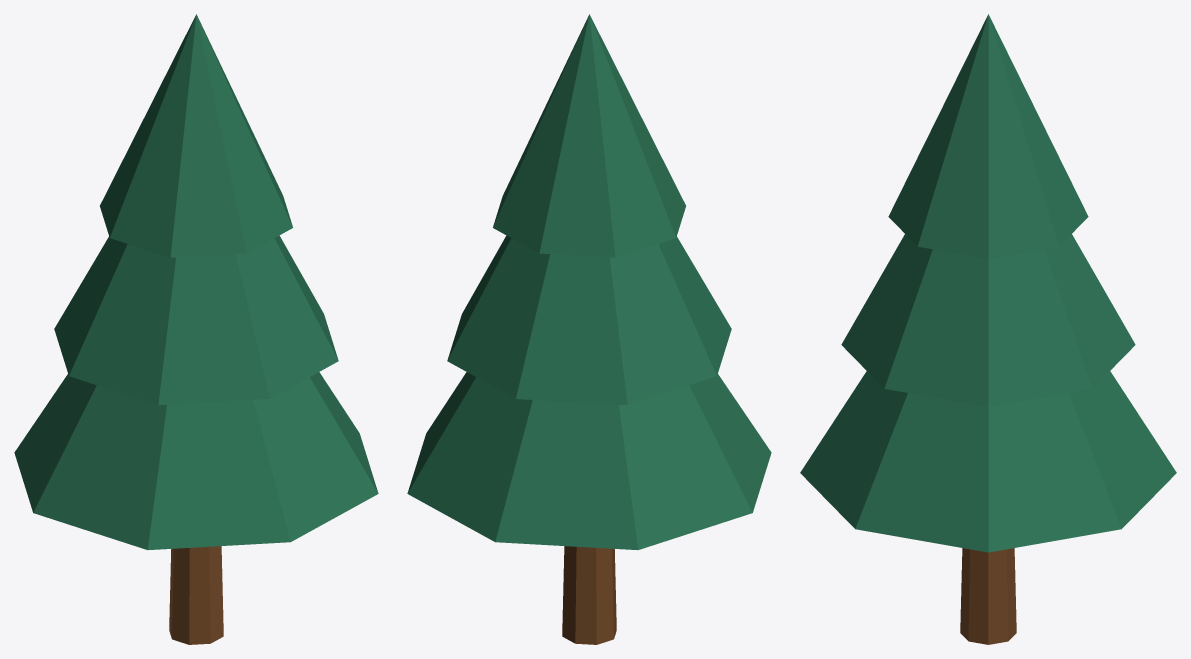
Rendered from tree_pine.glb.
3 renders of one model, left to right at view 1: azimuth 30°, elevation 25°; view 2: azimuth 150°, elevation 25°; view 3: azimuth 270°, elevation 25°, orthographic.
Parts seen in each view (by area): view 1: tree_pine__static; view 2: tree_pine__static; view 3: tree_pine__static.
Boxes of the visible parts, bbox=[...] form: tree_pine__static: bbox=[14, 14, 378, 644]; tree_pine__static: bbox=[407, 14, 771, 644]; tree_pine__static: bbox=[800, 14, 1176, 644].
Size of the model in its own units: 3.2 by 5.8 by 3.2.
